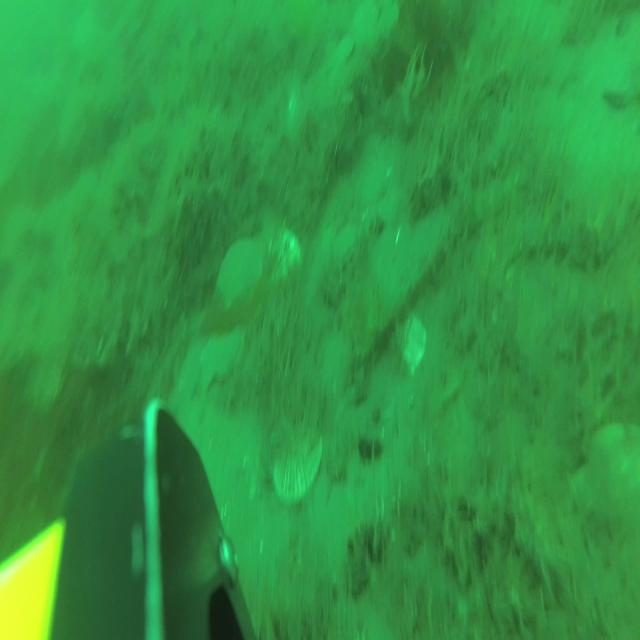scallop: (272, 418, 321, 502), (199, 326, 243, 389), (218, 241, 260, 300), (396, 306, 427, 376), (270, 233, 302, 285)
